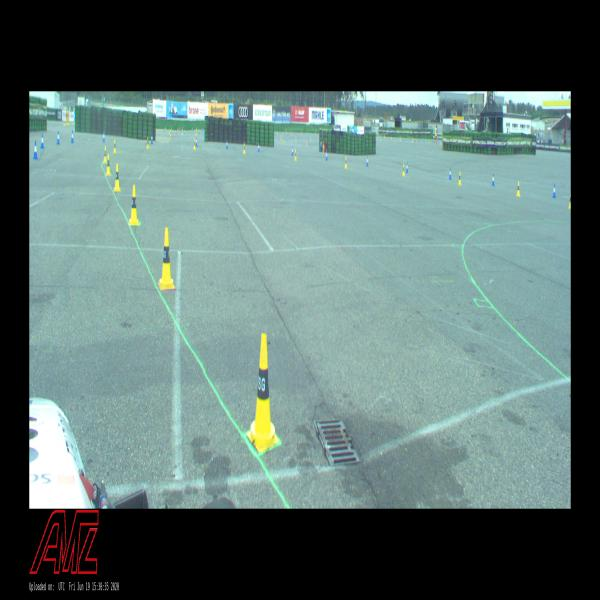blue_cone: (33, 141, 38, 159), (40, 133, 44, 148), (552, 184, 556, 198), (71, 130, 74, 143), (57, 132, 60, 144), (492, 173, 494, 186), (449, 167, 451, 179), (103, 131, 105, 142), (292, 145, 294, 156), (406, 162, 408, 173), (151, 134, 153, 144), (326, 150, 328, 160), (258, 143, 260, 152), (226, 140, 228, 148), (320, 141, 322, 147), (367, 156, 368, 166), (196, 137, 197, 147), (192, 127, 194, 131), (308, 136, 310, 140), (184, 129, 185, 134), (307, 133, 308, 138), (403, 136, 404, 141), (414, 137, 415, 142), (199, 129, 200, 134), (165, 127, 166, 131), (287, 137, 288, 141), (315, 134, 316, 138), (287, 132, 288, 136), (298, 133, 299, 137), (424, 139, 425, 143), (180, 128, 181, 132), (202, 127, 203, 131), (276, 132, 276, 136), (423, 138, 423, 142)
orange_cone: (384, 134, 385, 139), (177, 127, 178, 131), (176, 130, 176, 134), (306, 141, 306, 145)
yellow_cone: (247, 333, 279, 452), (158, 228, 175, 290), (130, 185, 138, 225), (114, 163, 121, 191), (106, 154, 111, 175), (516, 181, 520, 197), (104, 146, 107, 164), (568, 192, 571, 209), (458, 171, 461, 185), (114, 140, 117, 152), (146, 137, 149, 149), (402, 164, 405, 176), (344, 156, 347, 168), (294, 149, 297, 161), (193, 140, 196, 150), (170, 130, 172, 136), (244, 144, 245, 154), (390, 135, 392, 140), (398, 136, 400, 141), (394, 138, 396, 142), (178, 127, 180, 131), (428, 138, 429, 144), (323, 141, 324, 147), (196, 131, 197, 136), (310, 136, 311, 141), (169, 129, 170, 134), (281, 136, 282, 141), (439, 140, 440, 145), (196, 126, 197, 131), (301, 131, 302, 136), (416, 138, 417, 143), (425, 139, 426, 144), (182, 130, 183, 134), (283, 138, 284, 142), (171, 126, 172, 130), (182, 127, 183, 131), (277, 130, 278, 134), (286, 129, 287, 133), (377, 136, 378, 140), (380, 136, 381, 140), (315, 130, 316, 134), (400, 136, 401, 140), (425, 140, 426, 144), (316, 133, 317, 136), (307, 140, 307, 146), (412, 138, 412, 142), (296, 136, 296, 141), (379, 133, 379, 138), (292, 131, 292, 135)
